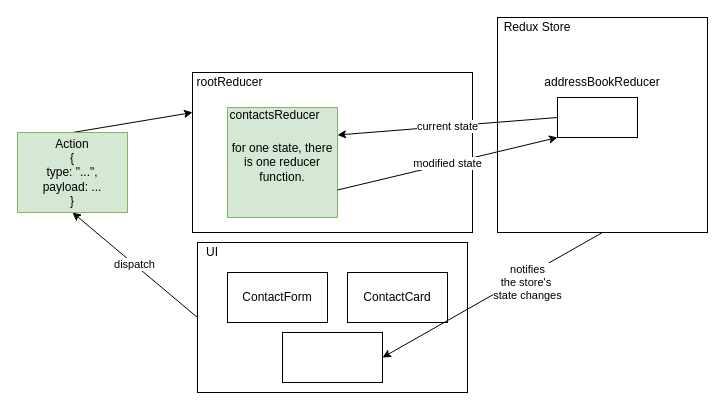
This 725x410 diagram has some shape labels left out. Each missing label, with the centre of its shape:
ContactList: pixel 332 357
contacts: pixel 597 117
